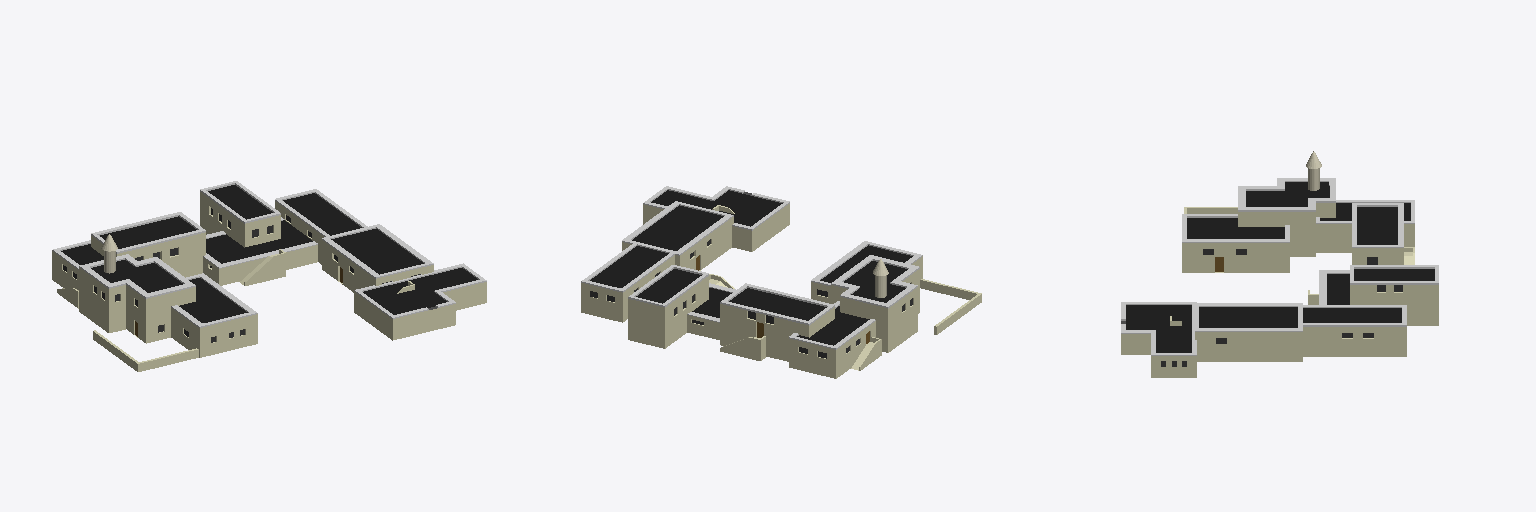
Rendered from house5.obj.
3 renders of one model, left to right at view 1: azimuth 30°, elevation 25°; view 2: azimuth 150°, elevation 25°; view 3: azimuth 270°, elevation 25°, orthographic.
Visible parts, largest first — view 1: unnamed_object1; view 2: unnamed_object1; view 3: unnamed_object1.
Boxes of the visible parts, x1,y1,x2,y2 form: unnamed_object1: [52, 181, 486, 371]; unnamed_object1: [581, 186, 981, 378]; unnamed_object1: [1121, 151, 1438, 377].
Size of the model in its own units: 38.59 by 9.23 by 31.97.